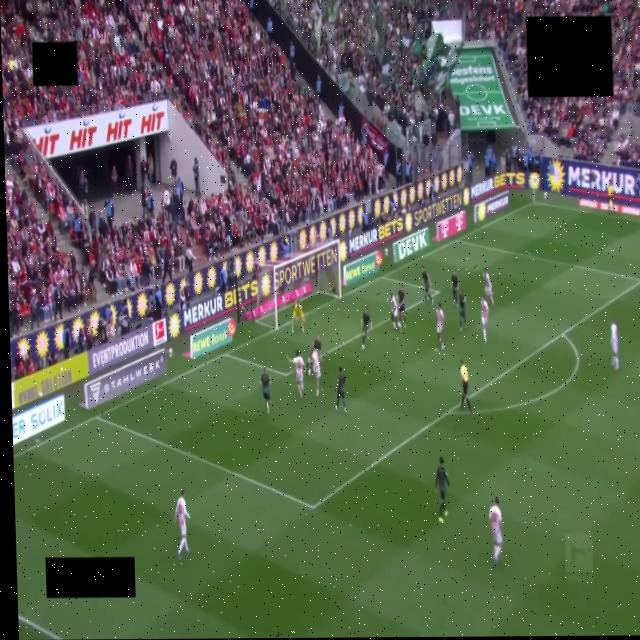player: (175, 491, 189, 559), (435, 457, 449, 523), (489, 497, 502, 563), (287, 350, 304, 397), (306, 335, 321, 376), (259, 367, 271, 413), (336, 367, 346, 413), (389, 293, 401, 330), (311, 348, 320, 397), (422, 266, 433, 304), (292, 301, 305, 333), (361, 308, 371, 349), (611, 321, 619, 370), (436, 303, 444, 349), (398, 285, 406, 328), (484, 268, 493, 305), (481, 296, 488, 342), (459, 288, 466, 332), (451, 270, 459, 305)
referee: (461, 360, 471, 413)
